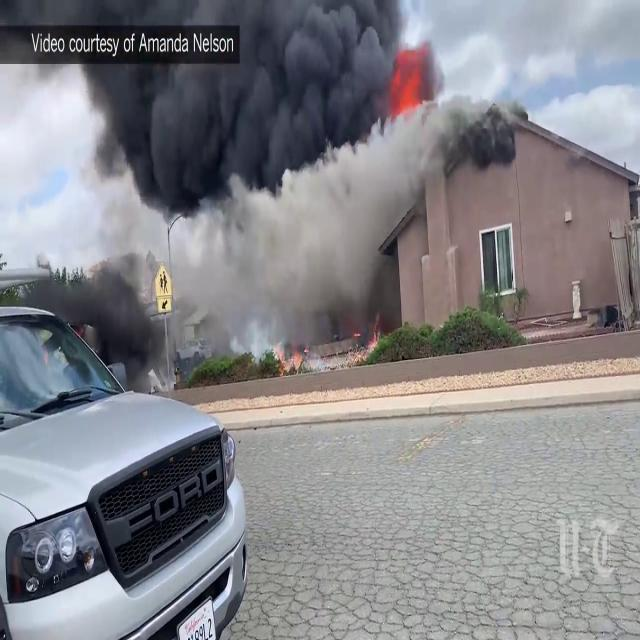Smoke: (4, 0, 440, 311)
